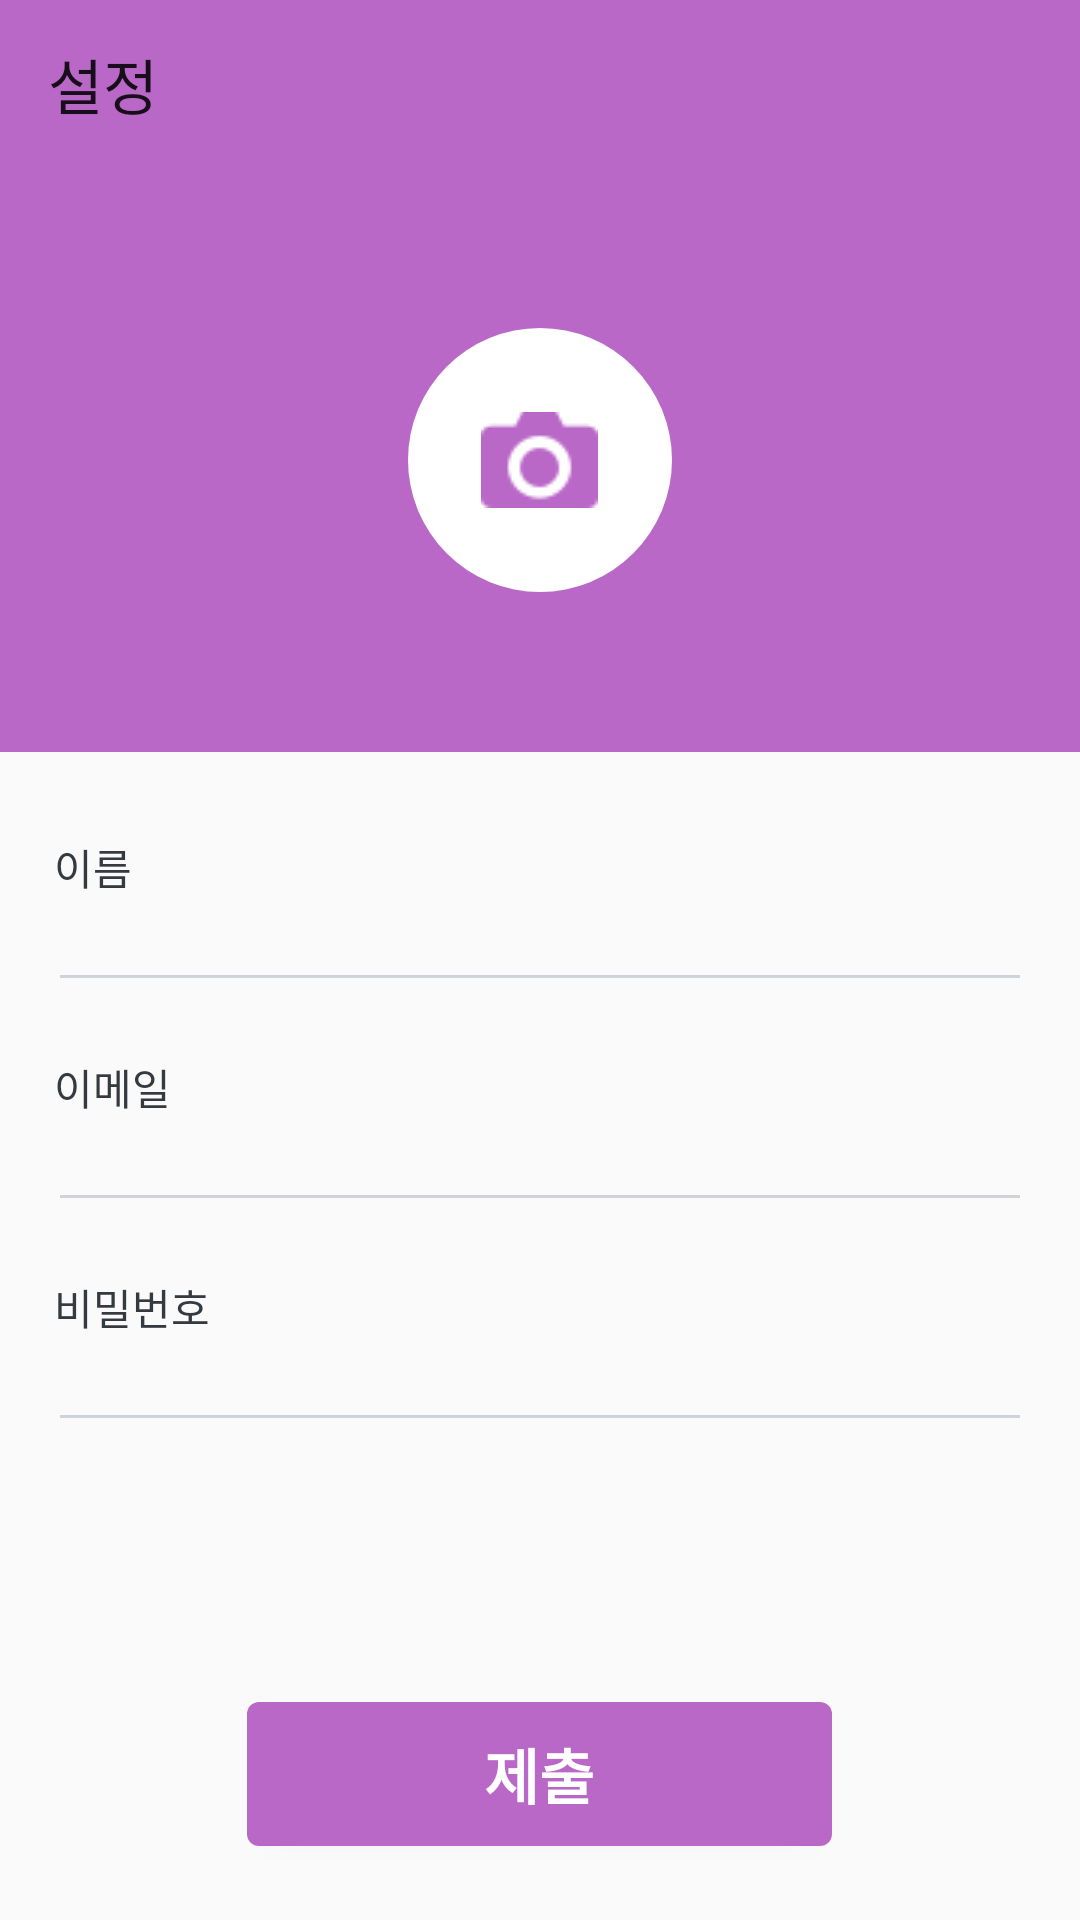

Named icons in this screenshot (1080x1920) and their bounding boxes, (x1, y1, x2, y2):
camera: (481, 412, 598, 508)
